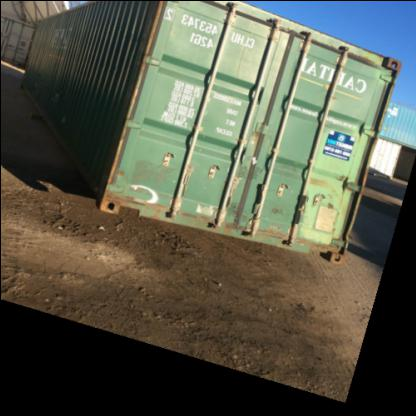Damage: (126, 153, 180, 194), (186, 188, 226, 223), (260, 196, 288, 232), (228, 150, 262, 178), (221, 195, 253, 223)
